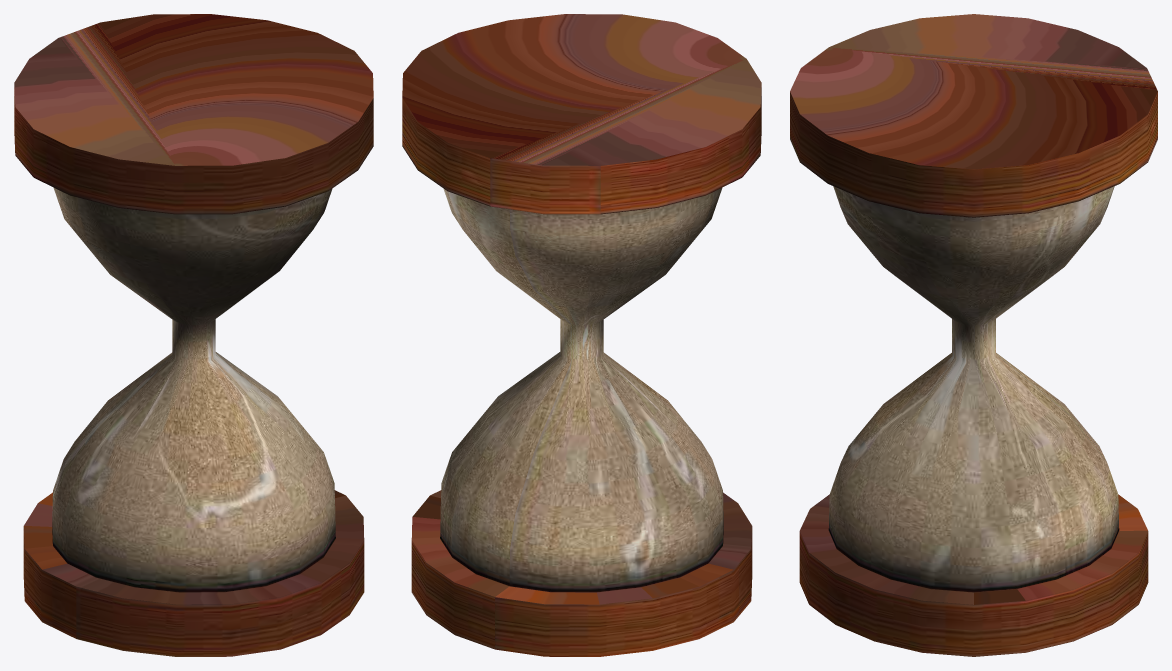
The model's file is hourglass_080422.dae.
3 views of the same model, side by side, from view 1: azimuth 30°, elevation 25°; view 2: azimuth 150°, elevation 25°; view 3: azimuth 270°, elevation 25° (orthographic).
Parts seen in each view (by area): view 1: polySurface1; view 2: polySurface1; view 3: polySurface1.
Part boxes in pixels (x1,y1,x2,y2): polySurface1: (14, 14, 373, 656); polySurface1: (402, 14, 761, 656); polySurface1: (790, 14, 1157, 656).
Bounding box in the file's own units: 1.65 × 2.44 × 1.65.
